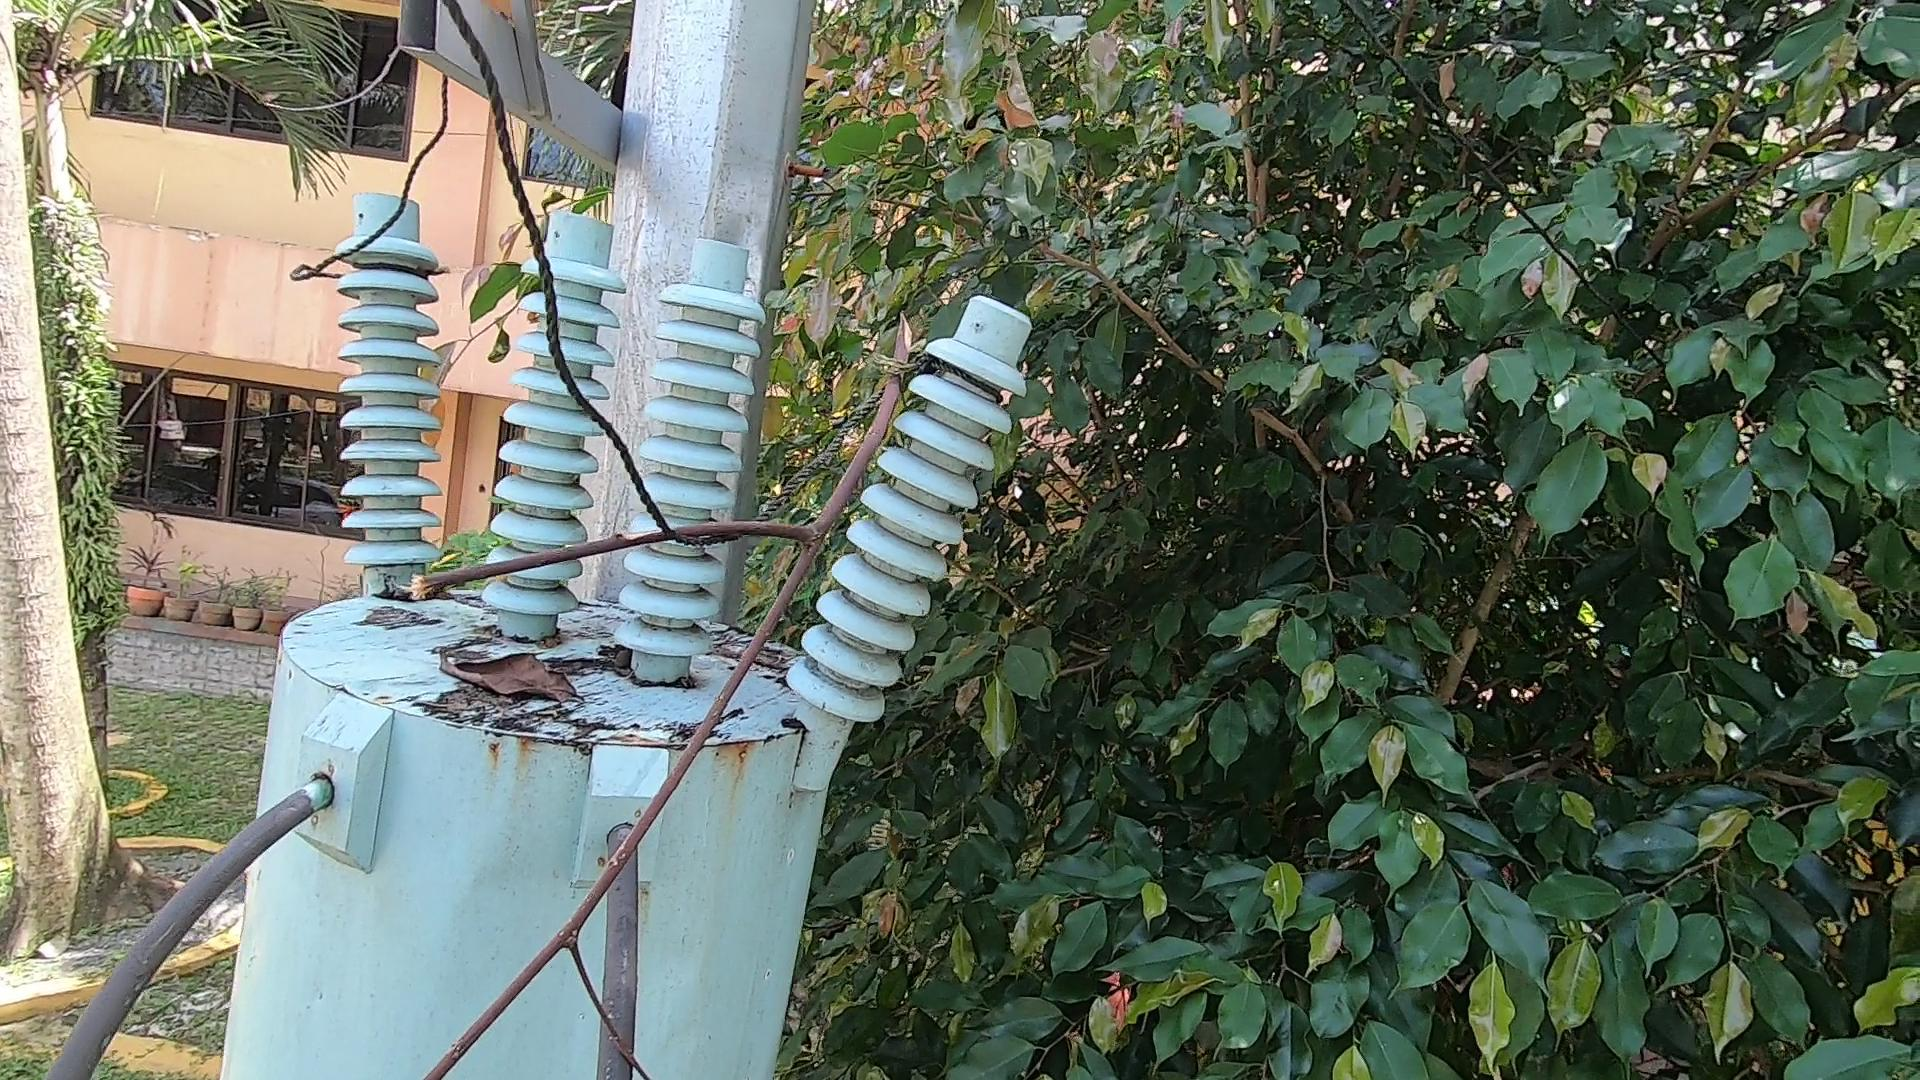leaf: (425, 636, 588, 735)
tree branch: (353, 302, 926, 1080)
